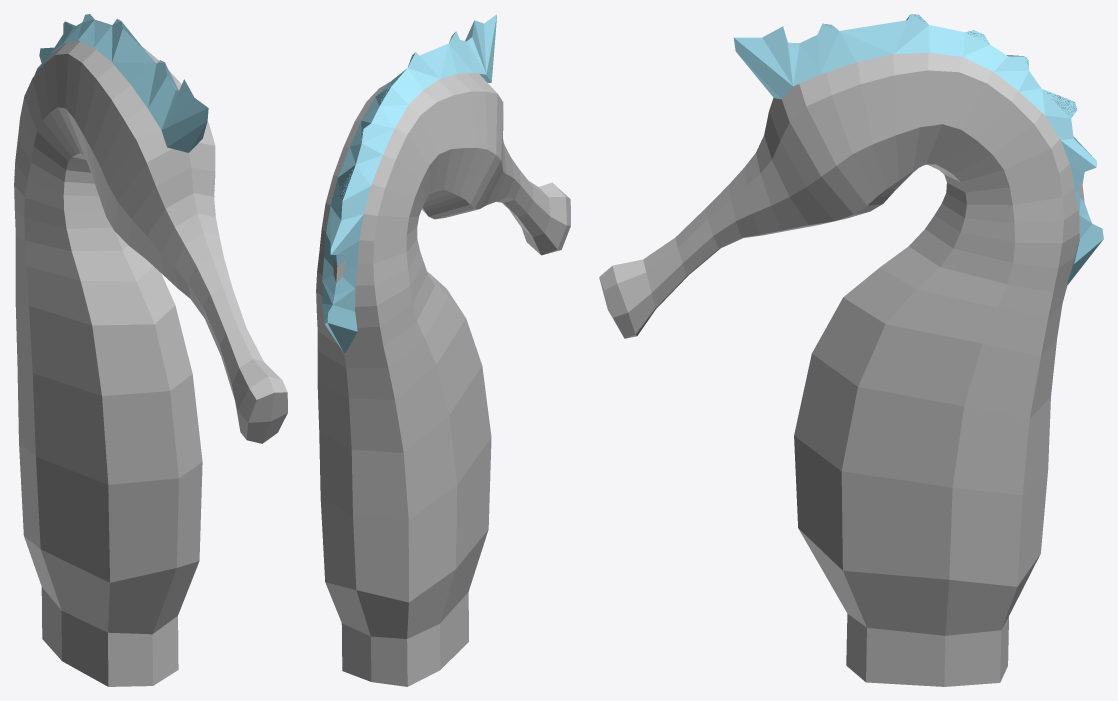
The model's file is sea_horse_statue.fbx.
The picture shows the model from 3 angles, left to right: view 1: azimuth 30°, elevation 25°; view 2: azimuth 150°, elevation 25°; view 3: azimuth 270°, elevation 25°; orthographic projection. The views are drawn at different scales.
Visible parts, largest first — view 1: Cube, Cube.002; view 2: Cube, Cube.002; view 3: Cube, Cube.002.
Part boxes in pixels (box(x1,y1,x2,y2)): Cube: box(14, 40, 287, 686); Cube.002: box(34, 14, 208, 152); Cube: box(316, 73, 570, 686); Cube.002: box(322, 14, 496, 352); Cube: box(599, 52, 1084, 686); Cube.002: box(733, 14, 1103, 284).
Bounding box in the file's own units: 73.22 × 346 × 243.
